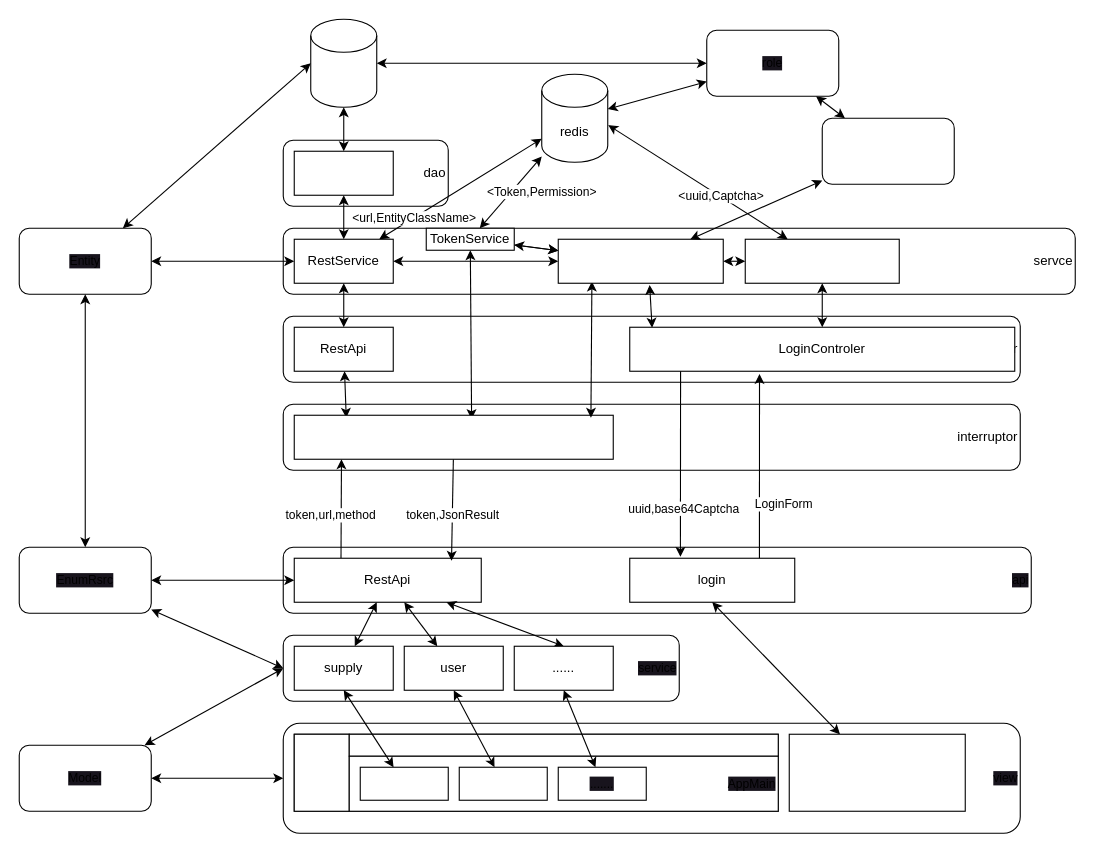
Image size: 1095x853. Some labels were removed from this diagram. Each missing label, with the centre of its shape:
AuthInterruptor: (x=453, y=436)
AuthService: (x=640, y=260)
CaptchaService: (x=821, y=260)
loginView: (x=876, y=772)
mysql: (x=343, y=62)
navbar: (x=563, y=744)
Permission: (x=887, y=150)
RestMapper: (x=343, y=172)
sidebar: (x=321, y=772)
supplyView: (x=403, y=783)
UserView: (x=502, y=783)
